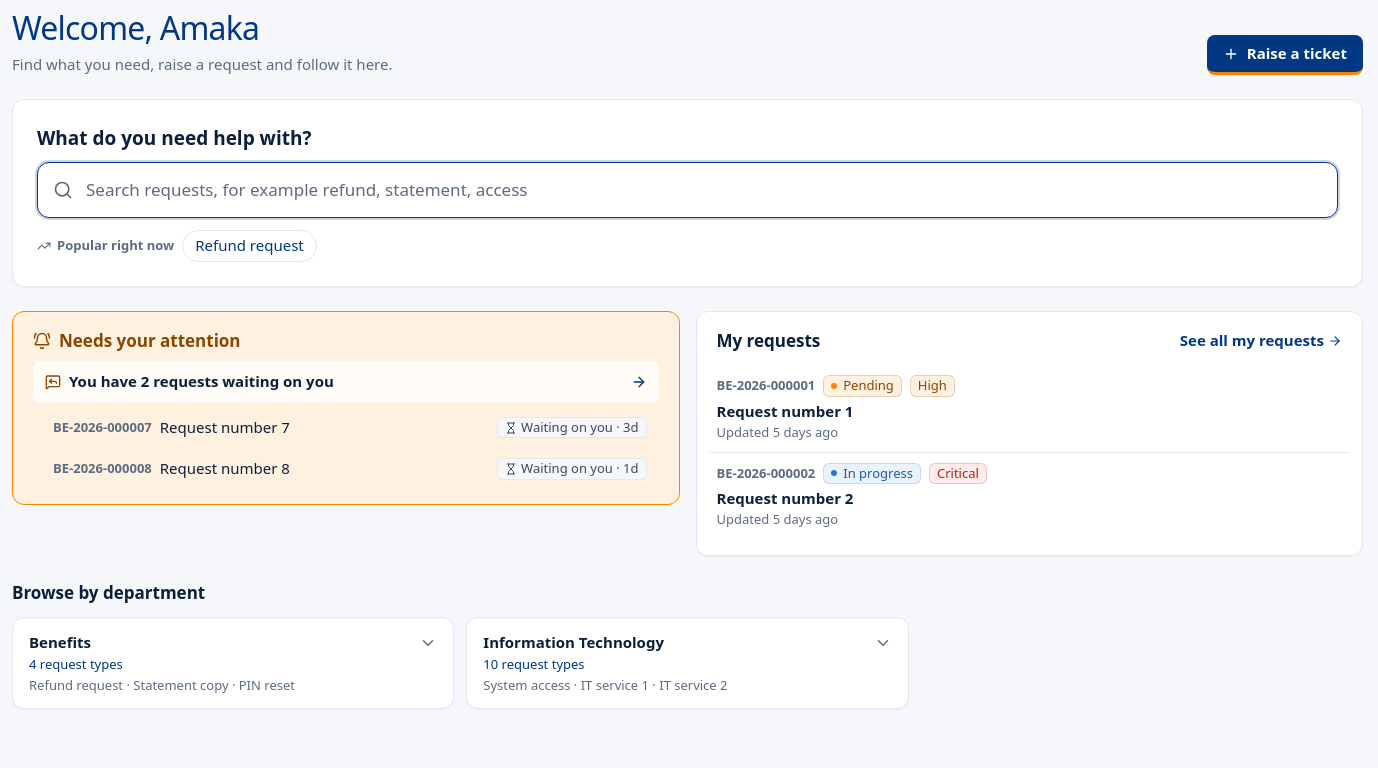
it: Requester Home › with no match, points to the departments and a general request
Type "zebra" into the dropdown at [688, 190], box [37,162,1338,218]
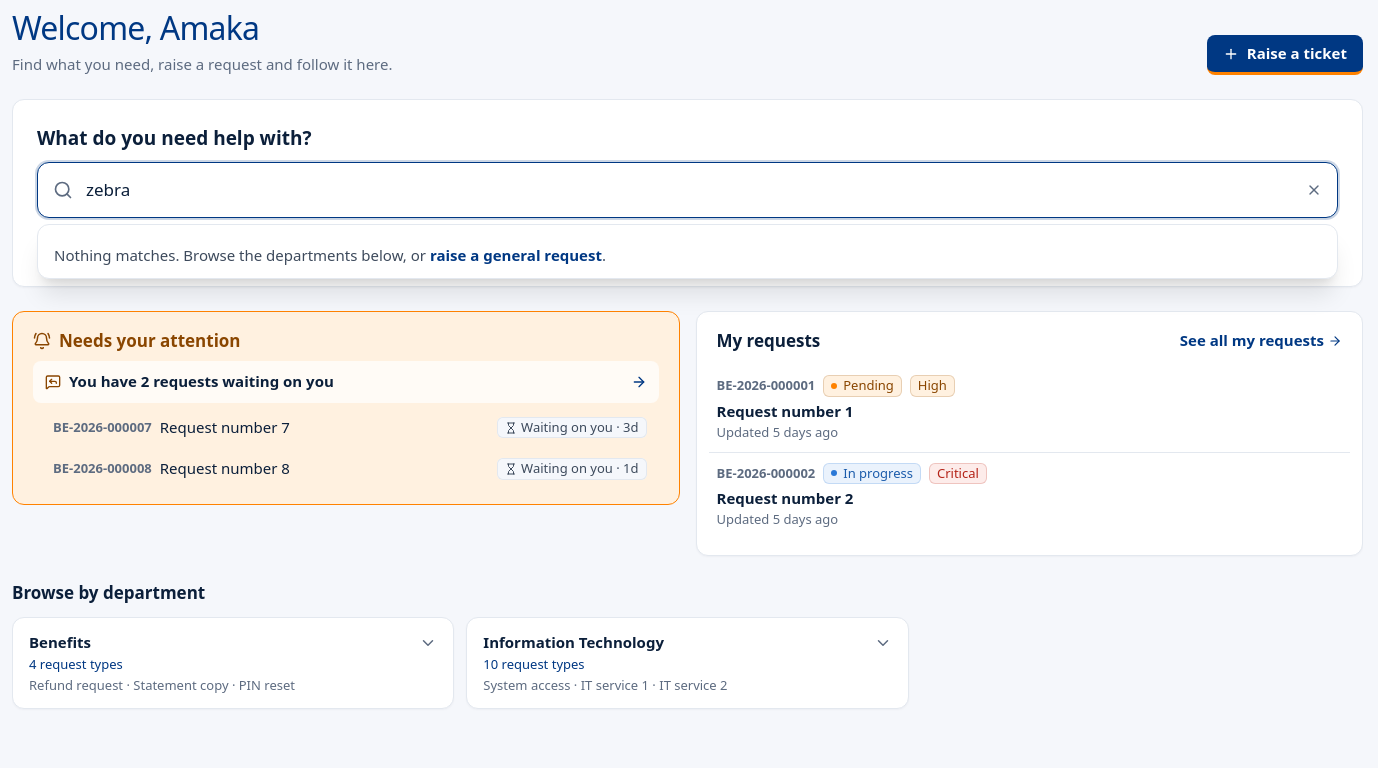
Expected: the text "Nothing matches. Browse the departments below, or" is shown, [54,245,430,265]
